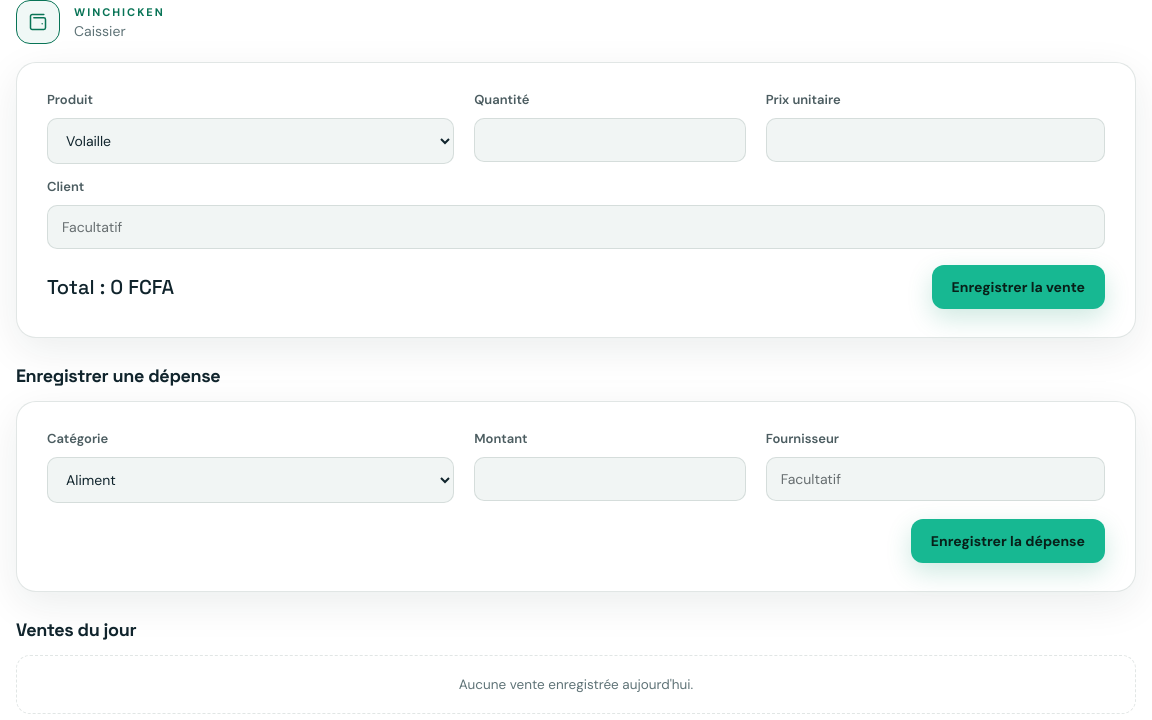
CashierPage — recording a sale › an unreachable server is worded as such, not as a validation problem
Type "12" into the number field labelled "Quantité".
click(610, 140); type("12")  # box x1=474 y1=118 x2=746 y2=162
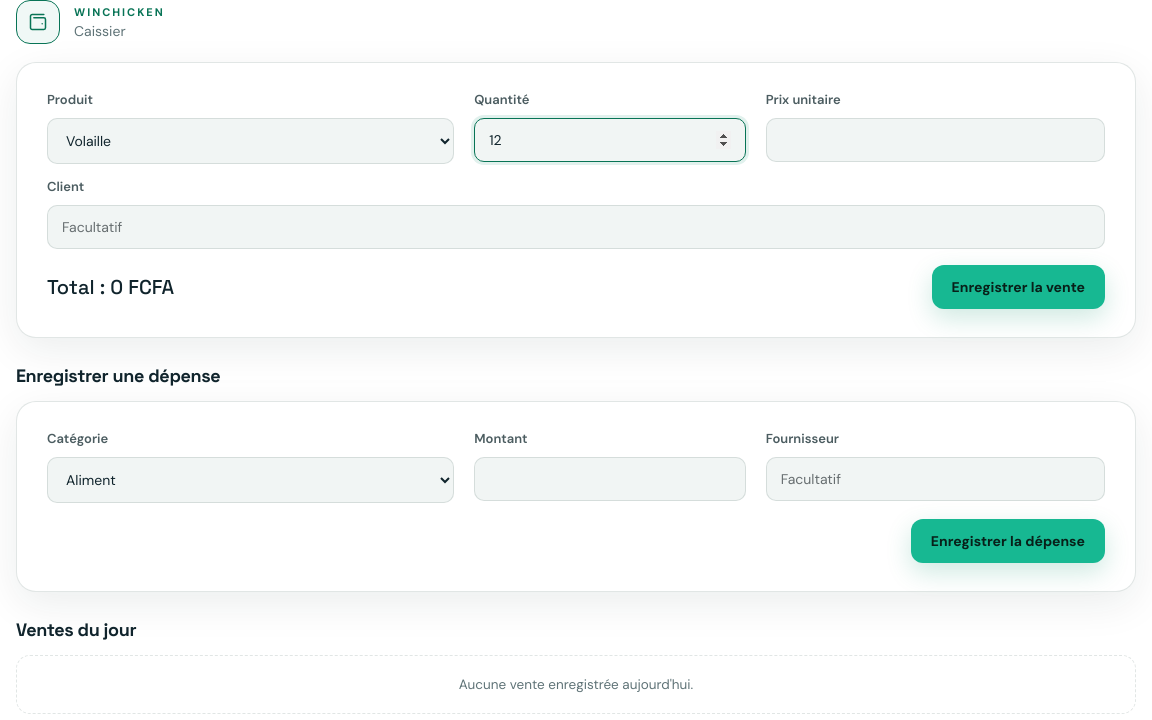
Type "2500" into the number field labelled "Prix unitaire".
click(935, 140); type("2500")  # box x1=766 y1=118 x2=1105 y2=162
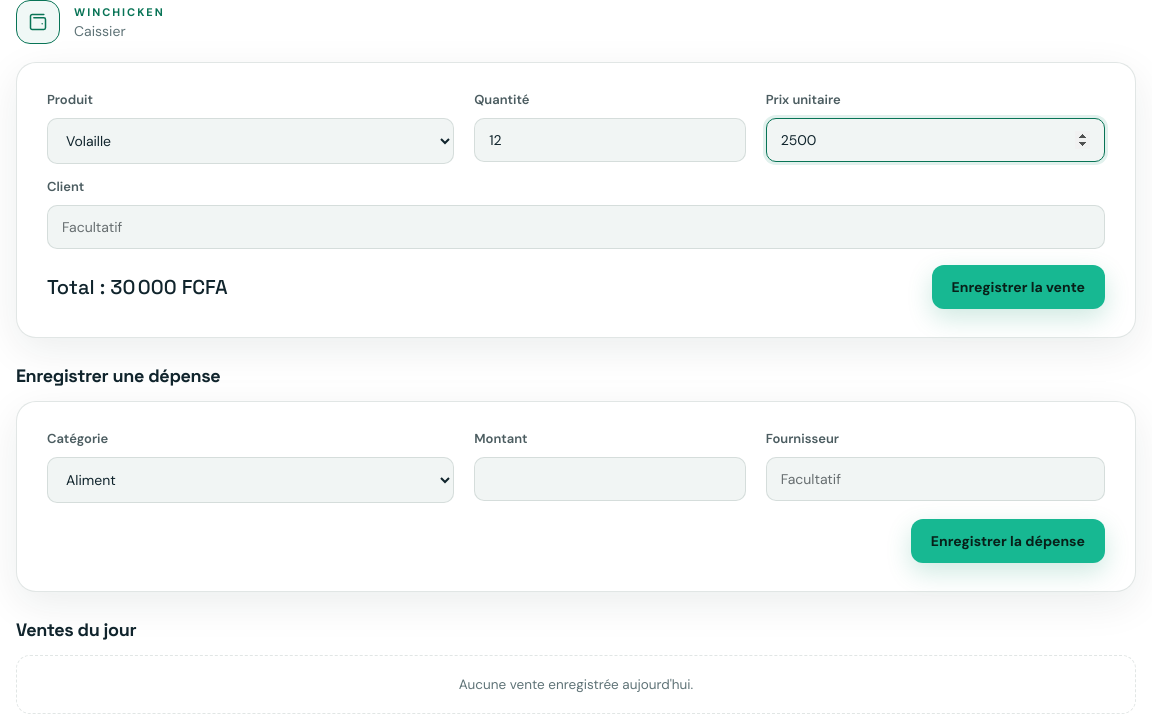
Click the button "Enregistrer la vente".
click(1018, 287)  # box x1=932 y1=265 x2=1105 y2=309
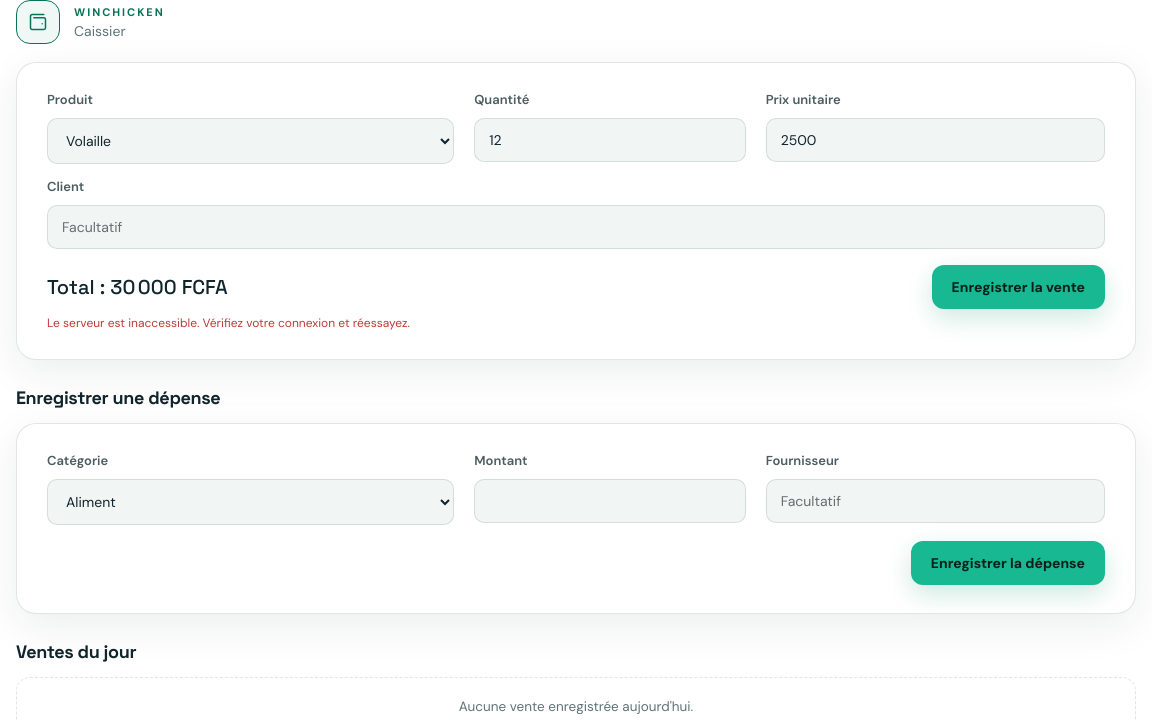
Expected: the message shows "Le serveur est inaccessible.", x1=47 y1=315 x2=410 y2=331
